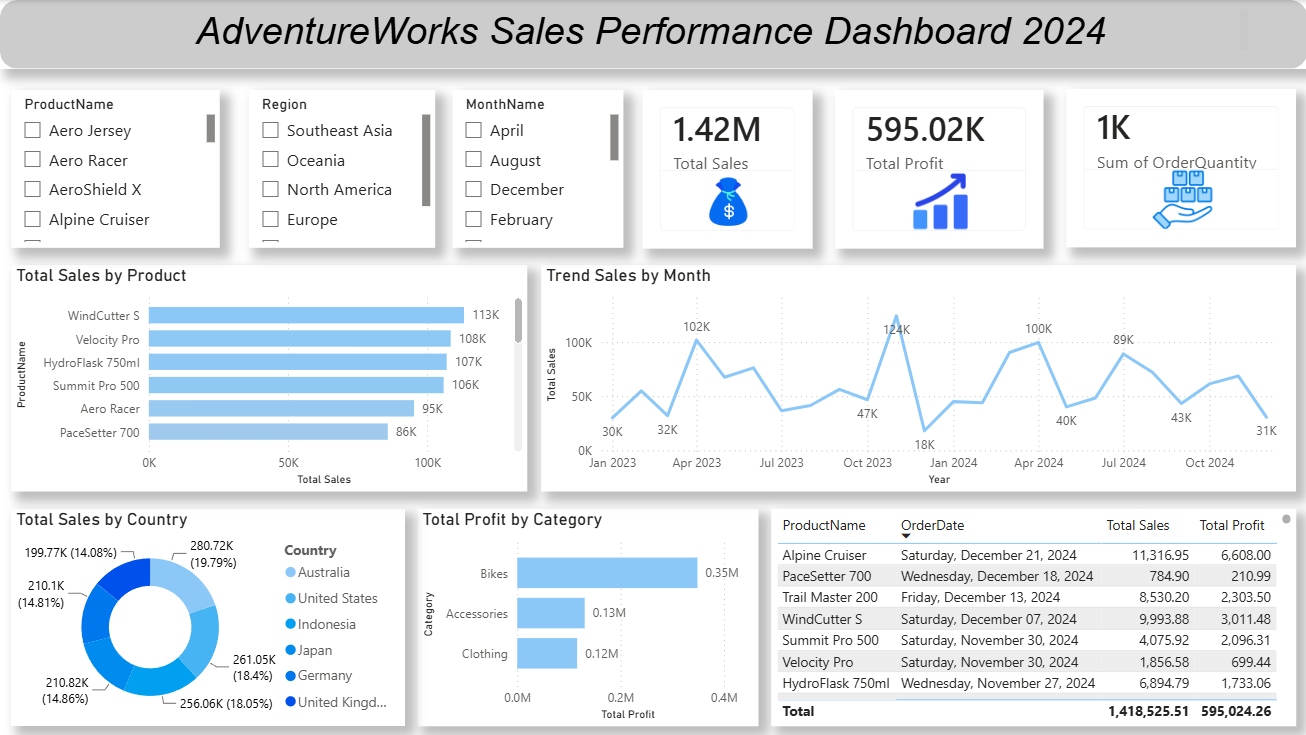

The page's visual inventory and layout, read from the dashboard file:
{"tool":"powerbi","page":{"name":"Page 1","canvas":[1280,720],"ordinal":0},"visuals":[{"type":"barChart","title":"Total Sales by Product","fields":{"Y":["Fact Table Sales.Total Sales"],"Category":["Dim Products.ProductName"]},"box":[11,259.2,505,221.3],"z":0},{"type":"barChart","fields":{"Category":["Dim Products.Category"],"Y":["Fact Table Sales.Total Profit"]},"box":[408.4,497.7,333.8,212.8],"z":1000},{"type":"shape","box":[0,0,1279.1,67.3],"z":2000},{"type":"textbox","box":[55,3.7,1171.5,51.4],"z":3000},{"type":"donutChart","fields":{"Y":["Fact Table Sales.Total Sales"],"Category":["Dim Territories.Country"]},"box":[11,497.7,385.2,212.8],"z":4000},{"type":"lineChart","title":"Trend Sales by Month","fields":{"Y":["Fact Table Sales.Total Sales"],"Category":["Dim Calendar.Date.Variation.Date Hierarchy.Year","Dim Calendar.Date.Variation.Date Hierarchy.Month"]},"box":[529.5,259.2,738.6,221.3],"z":5000},{"type":"slicer","fields":{"Values":["Dim Products.ProductName"]},"box":[11,87.8,204.2,154.1],"z":6000},{"type":"slicer","fields":{"Values":["Dim Territories.Region"]},"box":[243.3,88,182.2,154.1],"z":7000},{"type":"slicer","fields":{"Values":["Dim Calendar.MonthName"]},"box":[442.7,88,167.5,154.1],"z":8000},{"type":"tableEx","fields":{"Values":["Dim Products.ProductName","Fact Table Sales.OrderDate","Fact Table Sales.Total Sales","Fact Table Sales.Total Profit"]},"box":[754.5,497.7,513.6,212.8],"z":9000},{"type":"cardVisual","fields":{"Data":["Fact Table Sales.Total Sales"]},"box":[628.5,88,166.3,155.3],"z":10000},{"type":"cardVisual","fields":{"Data":["Fact Table Sales.Total Profit"]},"box":[816.9,88,204.2,155.3],"z":11000},{"type":"cardVisual","fields":{"Data":["Sum(Fact Table Sales.OrderQuantity)"]},"box":[1043.1,86.8,225,155.3],"z":12000}]}

Visuals, with their boxes in screenshot pixels (x1, y1, x2, y2), scaled from the page's 1280x720 canvas onto the 1306x735 screenshot:
"Total Sales by Product" barChart: (11,265,526,491)
barChart - Dim Products.Category x Fact Table Sales.Total Profit: (417,508,757,725)
shape: (0,0,1305,69)
textbox: (56,4,1251,56)
donutChart - Fact Table Sales.Total Sales x Dim Territories.Country: (11,508,404,725)
"Trend Sales by Month" lineChart: (540,265,1294,491)
slicer - Dim Products.ProductName: (11,90,220,247)
slicer - Dim Territories.Region: (248,90,434,247)
slicer - Dim Calendar.MonthName: (452,90,623,247)
tableEx - Dim Products.ProductName x Fact Table Sales.OrderDate: (770,508,1294,725)
cardVisual - Fact Table Sales.Total Sales: (641,90,811,248)
cardVisual - Fact Table Sales.Total Profit: (833,90,1042,248)
cardVisual - Sum(Fact Table Sales.OrderQuantity): (1064,89,1294,247)
